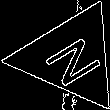N_NE: (35, 27, 106, 88)
